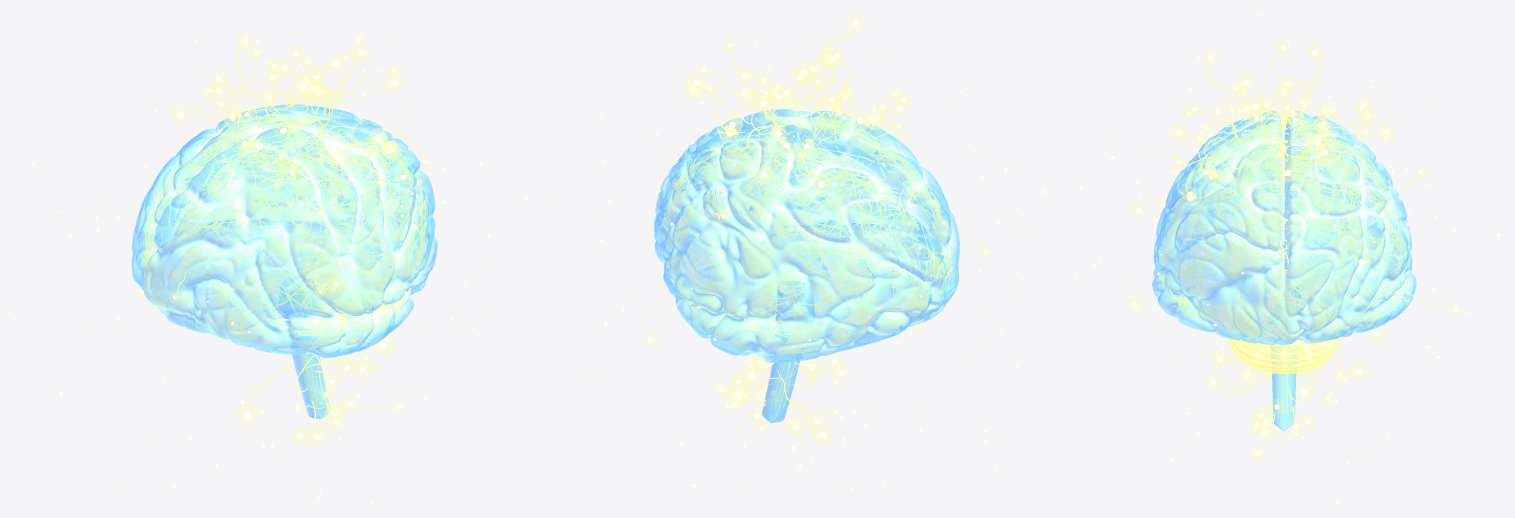
The model's file is neural_brain.glb.
The picture shows the model from 3 angles, left to right: view 1: azimuth 30°, elevation 25°; view 2: azimuth 150°, elevation 25°; view 3: azimuth 270°, elevation 25°; orthographic projection. The views are drawn at different scales.
Visible parts, largest first — view 1: BrainShell, NeuralFibers, NodeGlow, NeuralNodes, Cerebellum, Particles; view 2: BrainShell, NeuralFibers, NodeGlow, NeuralNodes, Cerebellum, Particles; view 3: BrainShell, NeuralFibers, NodeGlow, Cerebellum, NeuralNodes, Particles.
Boxes of the visible parts, <box> form: BrainShell: <box>131,104,437,419</box>; NeuralFibers: <box>143,42,428,434</box>; NodeGlow: <box>135,33,435,446</box>; NeuralNodes: <box>141,37,427,440</box>; Cerebellum: <box>296,259,399,331</box>; Particles: <box>14,14,527,503</box>; BrainShell: <box>654,109,960,423</box>; NeuralFibers: <box>652,25,983,436</box>; NodeGlow: <box>644,14,991,445</box>; NeuralNodes: <box>649,20,987,438</box>; Cerebellum: <box>694,262,795,335</box>; Particles: <box>556,32,1046,503</box>; BrainShell: <box>1152,110,1416,431</box>; NeuralFibers: <box>1133,49,1453,450</box>; NodeGlow: <box>1126,40,1461,461</box>; Cerebellum: <box>1228,297,1340,373</box>; NeuralNodes: <box>1131,45,1457,455</box>; Particles: <box>1075,14,1500,503</box>.
Size of the model in its own units: 3.4 by 3.02 by 2.81.
